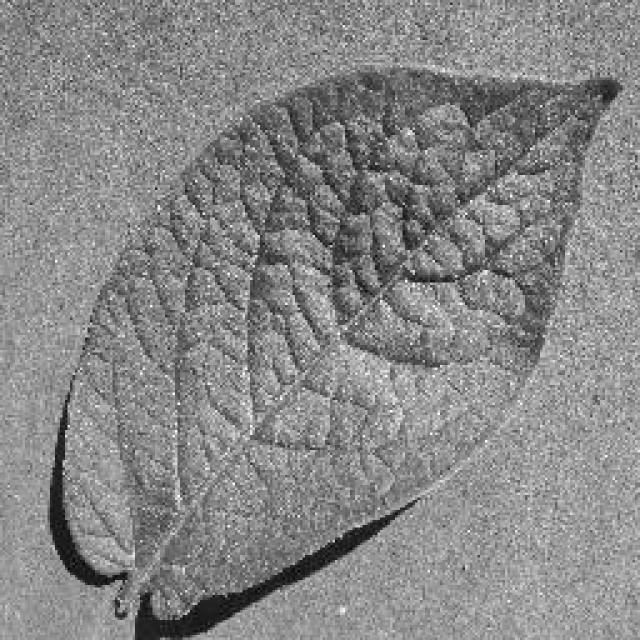Potato: (48, 58, 620, 632)
